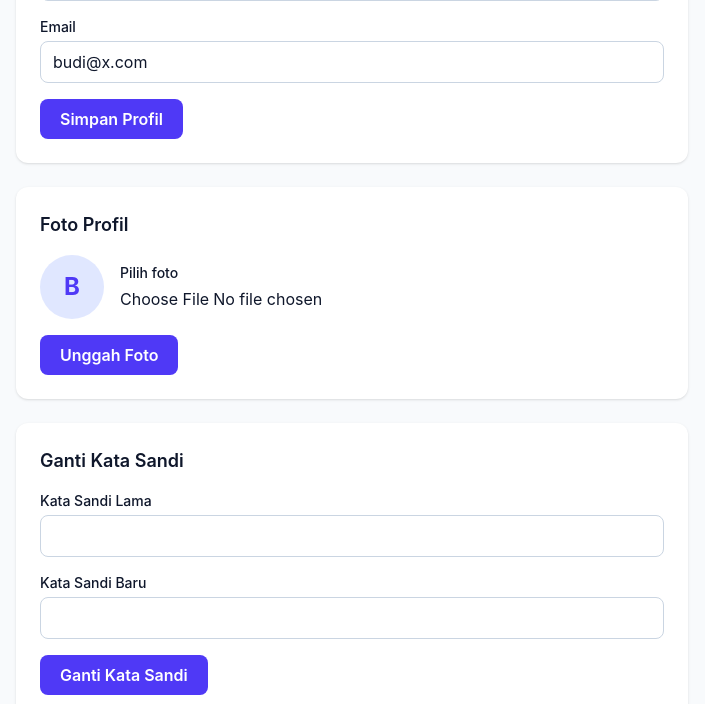
ProfilePage - ganti kata sandi › menampilkan pesan error jika kedua kolom kosong
The width and height of the screenshot is (705, 704).
(page scrolled)
Click the button "Ganti Kata Sandi" at (124, 675), box [40,655,208,695]
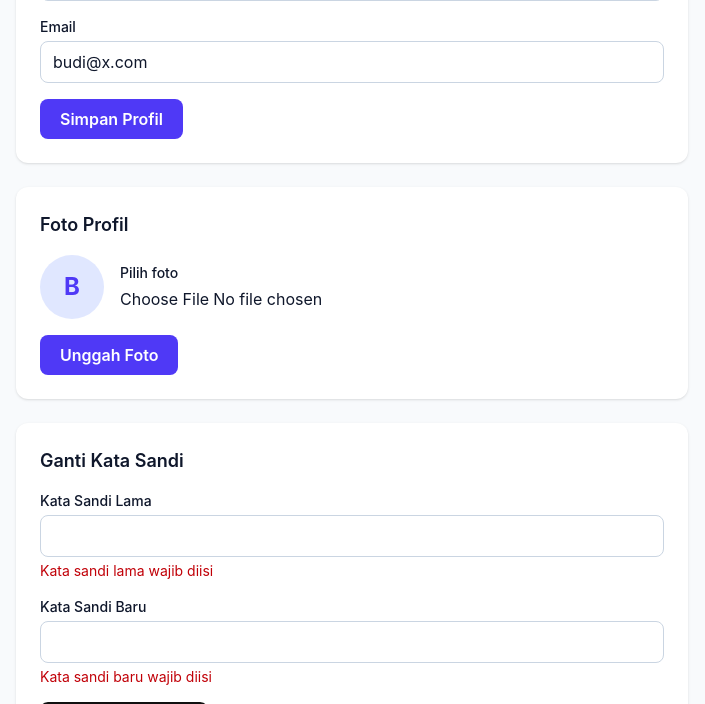
Now the text "Kata sandi lama wajib diisi" is shown, box [40,562,213,579]
Now the text "Kata sandi baru wajib diisi" is shown, box [40,668,212,685]
